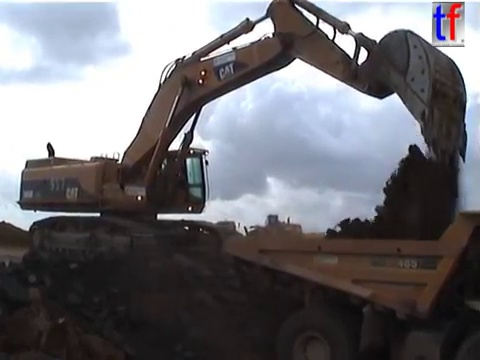excavator: (13, 2, 471, 270)
truck: (219, 207, 480, 360)
wheel loader: (238, 213, 305, 245)
